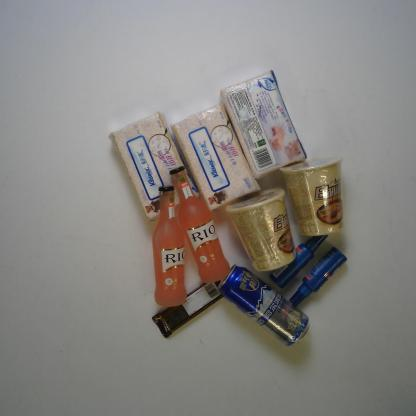Alcohol: (165, 162, 233, 287), (217, 262, 313, 350), (150, 182, 191, 310)
Chocolate: (148, 276, 230, 340)
Instant Noodles: (220, 186, 298, 276), (277, 151, 350, 239)
Personal Hygiene: (287, 244, 352, 309), (265, 230, 330, 290)
Tissue: (168, 102, 263, 212), (219, 68, 310, 182), (106, 109, 184, 223)
